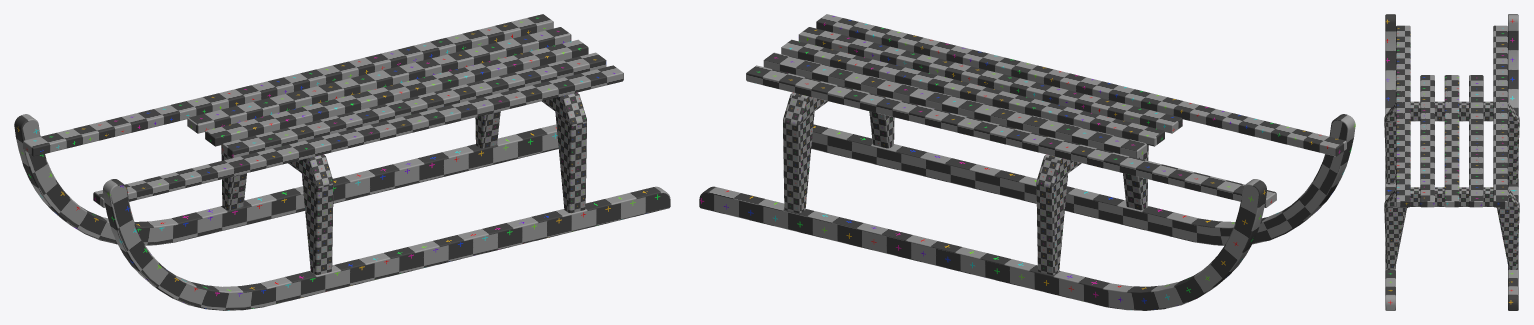
File: snow-sled.glb
3 renders of one model, left to right at view 1: azimuth 30°, elevation 25°; view 2: azimuth 150°, elevation 25°; view 3: azimuth 270°, elevation 25°, orthographic. The views are drawn at different scales.
Parts seen in each view (by area): view 1: Seat, Runners, Seat mount front, Seat mount back; view 2: Seat, Runners, Seat mount front, Seat mount back; view 3: Seat, Runners, Seat mount back, Seat mount front.
Part boxes in pixels (x1,y1,x2,y2): Seat: (23,14,623,207); Runners: (14,114,670,310); Seat mount front: (221,145,333,274); Seat mount back: (475,92,586,213); Seat: (746,14,1346,207); Runners: (699,114,1355,310); Seat mount front: (1036,145,1148,274); Seat mount back: (783,92,894,213); Seat: (1396,25,1507,207); Runners: (1385,14,1518,310); Seat mount back: (1384,187,1519,269); Seat mount front: (1384,101,1519,184).
Bounding box in the file's own units: 3.77 × 1.02 × 1.14.
Materials: 1 (1 with a texture image).
